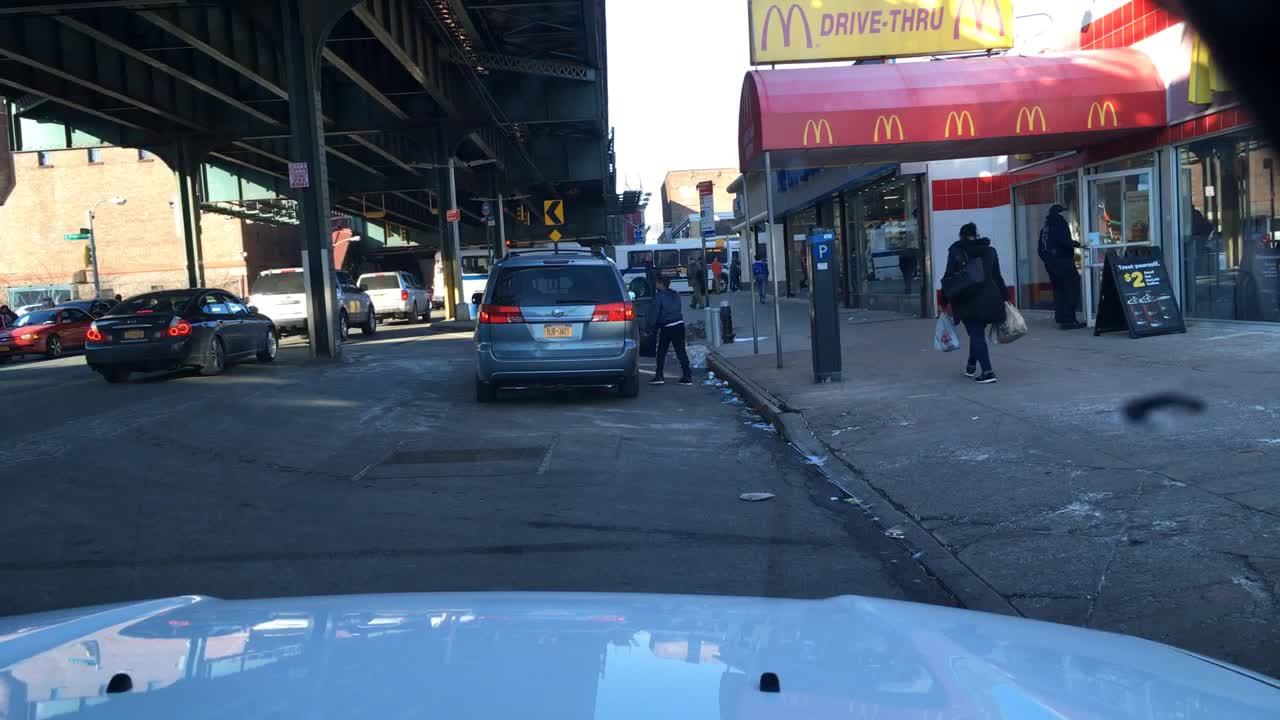bus: (425, 240, 591, 304), (603, 237, 777, 295)
car: (469, 249, 644, 406), (82, 286, 278, 384), (250, 267, 379, 338), (1, 305, 95, 360), (354, 268, 438, 326), (57, 296, 122, 321)
person: (929, 218, 1030, 386), (1033, 203, 1088, 331), (644, 273, 695, 387), (1, 300, 27, 364), (685, 250, 705, 309), (753, 253, 770, 308), (696, 253, 712, 297), (712, 254, 727, 297), (728, 258, 744, 292), (635, 249, 653, 271)
traffic light: (512, 203, 524, 222), (522, 212, 533, 227), (84, 243, 90, 268)
traffic sign: (696, 179, 717, 234), (538, 196, 566, 226), (284, 161, 311, 190), (61, 230, 91, 241), (443, 207, 462, 222), (478, 200, 492, 217), (815, 243, 829, 258), (634, 227, 645, 243), (485, 217, 497, 227)
